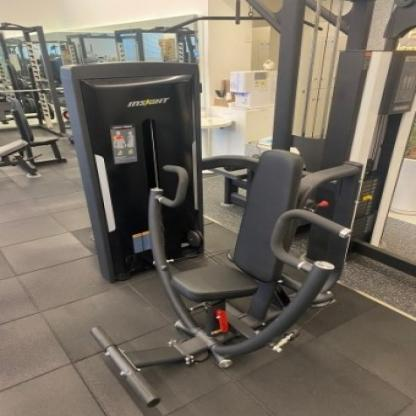Chest Press machine: (52, 54, 416, 416)
